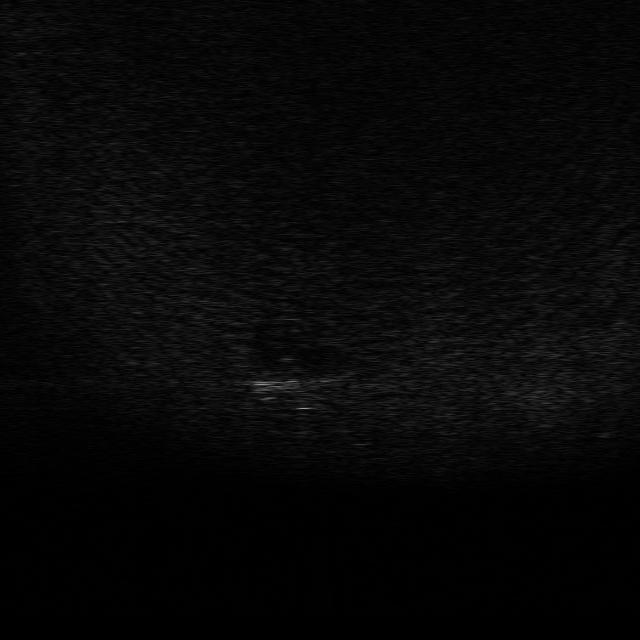plane: (246, 355, 346, 413)
